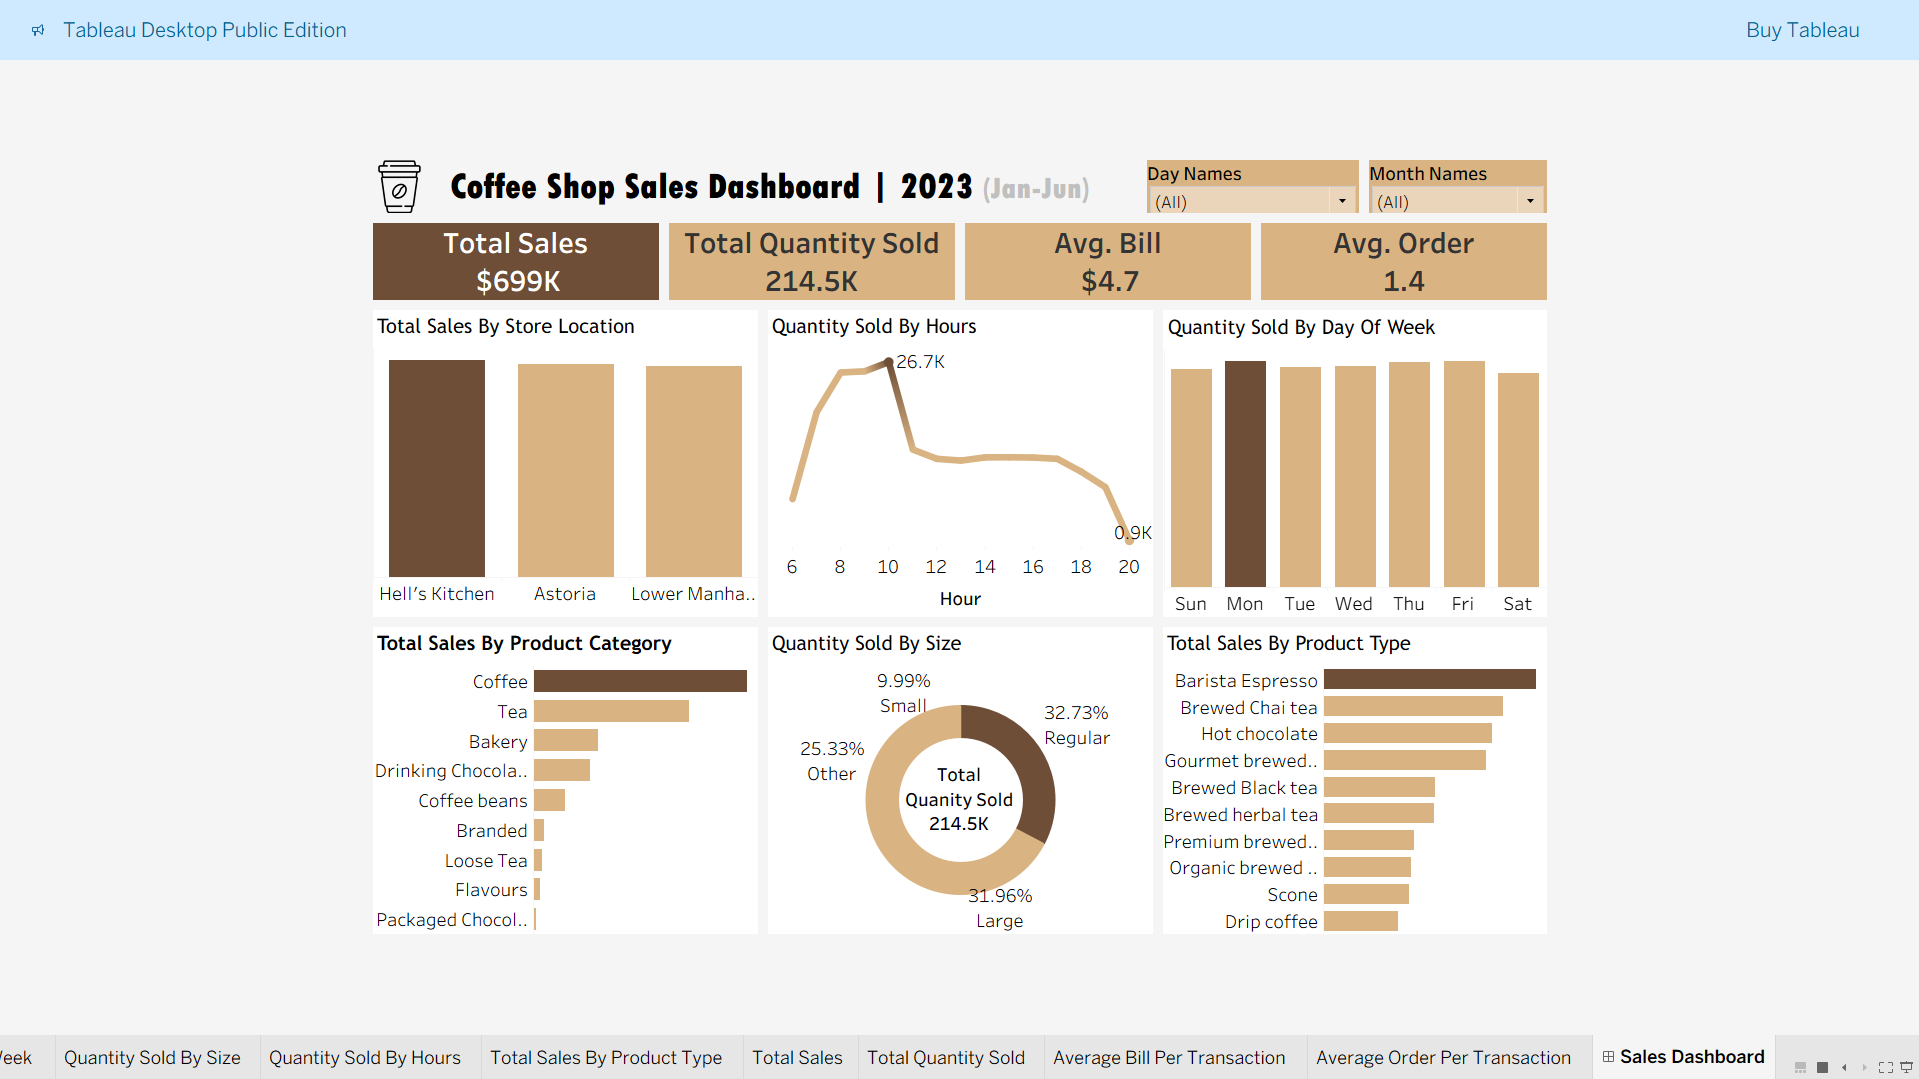

Layout of this report page (visuals, bound fields, positions):
{"tool":"tableau","page":{"name":"Sales Dashboard","canvas":[1200,800],"ordinal":0},"visuals":[{"type":"image","param":"Image/coffee.png","box":[8,8,73,63]},{"type":"text","box":[81,8,701,63]},{"type":"filter","title":"Product Category By Total Bill","param":"[federated.1alfixe1syxkye19zyzmj1h39voz].[none:day_name:nk]","box":[782,8,222,63]},{"type":"filter","title":"Product Category By Total Bill","param":"[federated.1alfixe1syxkye19zyzmj1h39voz].[none:month_name:nk]","box":[1004,8,188,63]},{"type":"worksheet","title":"Total Sales","mark":"Text","box":[8,71,296,87]},{"type":"worksheet","title":"Total Quantity Sold","mark":"Text","box":[304,71,296,87]},{"type":"worksheet","title":"Average Bill Per Transaction","mark":"Text","box":[600,71,296,87]},{"type":"worksheet","title":"Average Order Per Transaction","mark":"Text","box":[896,71,296,87]},{"type":"worksheet","title":"Store Location By Total Bill","mark":"Bar","rows":["total_price"],"cols":["store_location"],"box":[8,158,395,317]},{"type":"worksheet","title":"Hours By Quantity Sold","mark":"Line","rows":["transaction_qty"],"cols":["hour"],"box":[403,158,395,317]},{"type":"worksheet","title":"Days By Quantity Sold","mark":"Bar","rows":["transaction_qty"],"cols":["day_name"],"box":[798,158,394,317]},{"type":"worksheet","title":"Product Category By Total Bill","mark":"Bar","rows":["product_category"],"cols":["total_price"],"box":[8,475,395,317]},{"type":"worksheet","title":"Size By Quantity Sold","mark":"Pie","rows":["Calculation_560135250687414277","Calculation_560135250687602695"],"box":[403,475,395,317]},{"type":"worksheet","title":"Product Type By Total Bill","mark":"Bar","rows":["product_type"],"cols":["total_price"],"box":[798,475,394,317]}]}

Visuals, with their boxes on the page's 1200x800 design canvas (x1, y1, x2, y2). These are canvas units, not pixel positions in the 1919x1079 screenshot, which may show the page scaled, cropped or inside an application window:
image: (x1=8, y1=8, x2=81, y2=71)
text: (x1=81, y1=8, x2=782, y2=71)
"Product Category By Total Bill" filter: (x1=782, y1=8, x2=1004, y2=71)
"Product Category By Total Bill" filter: (x1=1004, y1=8, x2=1192, y2=71)
"Total Sales" worksheet (Text marks): (x1=8, y1=71, x2=304, y2=158)
"Total Quantity Sold" worksheet (Text marks): (x1=304, y1=71, x2=600, y2=158)
"Average Bill Per Transaction" worksheet (Text marks): (x1=600, y1=71, x2=896, y2=158)
"Average Order Per Transaction" worksheet (Text marks): (x1=896, y1=71, x2=1192, y2=158)
"Store Location By Total Bill" worksheet (Bar marks): (x1=8, y1=158, x2=403, y2=475)
"Hours By Quantity Sold" worksheet (Line marks): (x1=403, y1=158, x2=798, y2=475)
"Days By Quantity Sold" worksheet (Bar marks): (x1=798, y1=158, x2=1192, y2=475)
"Product Category By Total Bill" worksheet (Bar marks): (x1=8, y1=475, x2=403, y2=792)
"Size By Quantity Sold" worksheet (Pie marks): (x1=403, y1=475, x2=798, y2=792)
"Product Type By Total Bill" worksheet (Bar marks): (x1=798, y1=475, x2=1192, y2=792)
